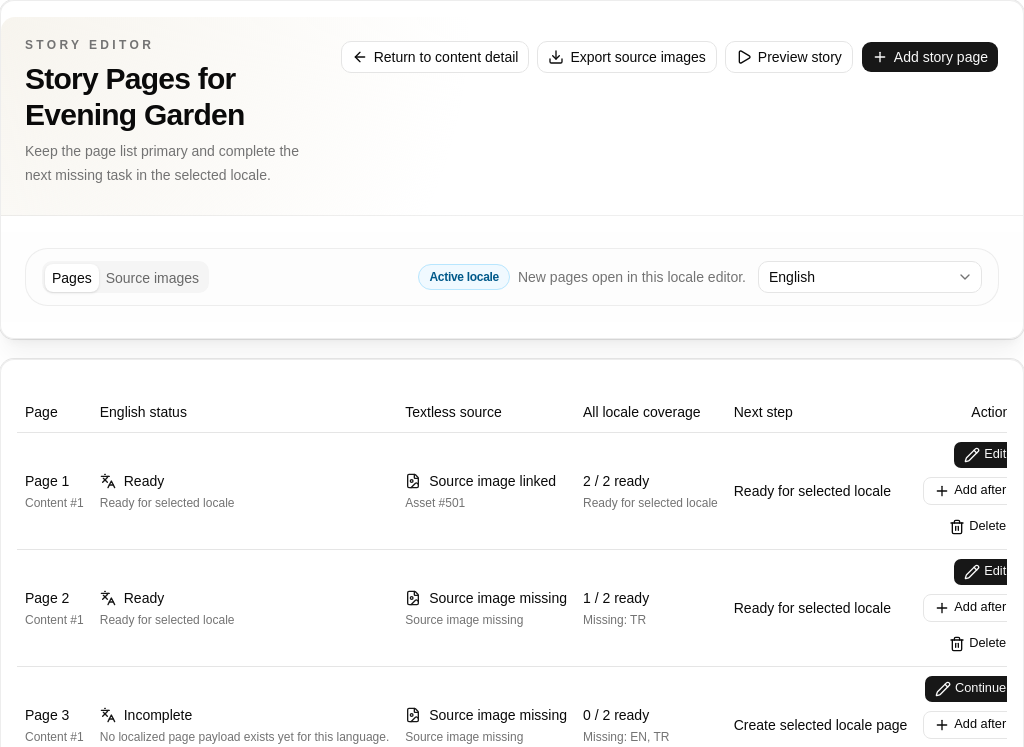
Test: StoryPagesRoute › moves to the previous and next story pages without closing the editor
The width and height of the screenshot is (1024, 747).
Click the button with aria-label "edit page 2" at x=985, y=572, box [953,558,1017,586]
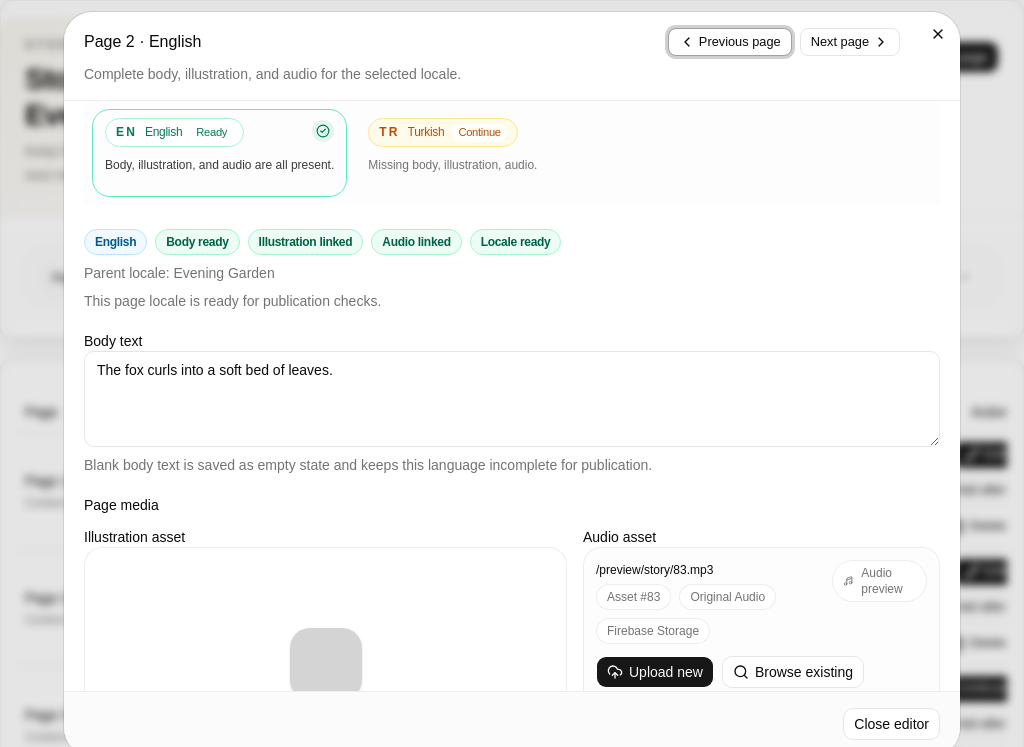
Click the button "Previous page" at x=730, y=42, box [668,28,792,56]
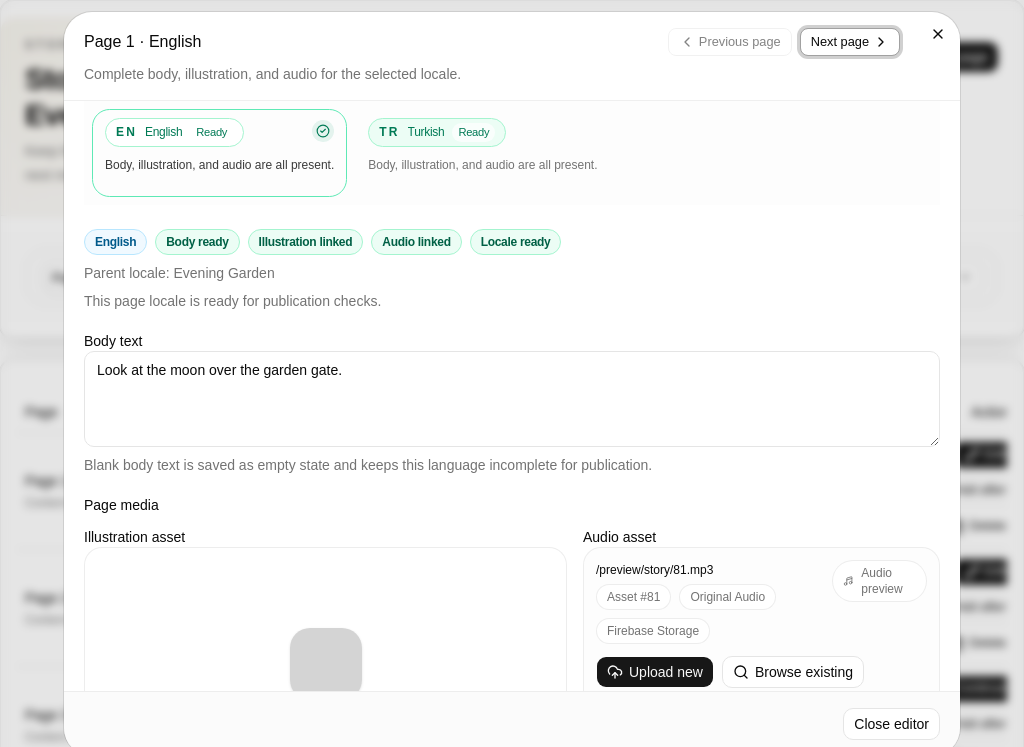
expect the heading "Page 1 · English" is shown: met, box [84,34,201,50]
Click the button "Next page" at x=850, y=42, box [800,28,900,56]
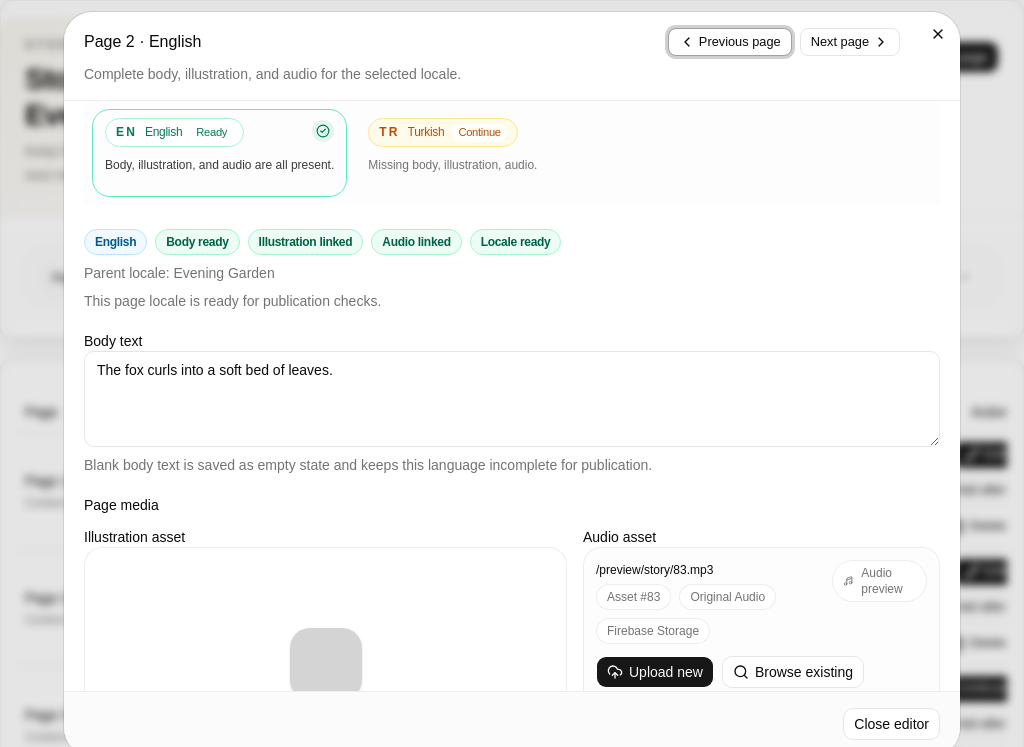
Click the button "Next page" at x=850, y=42, box [800,28,900,56]
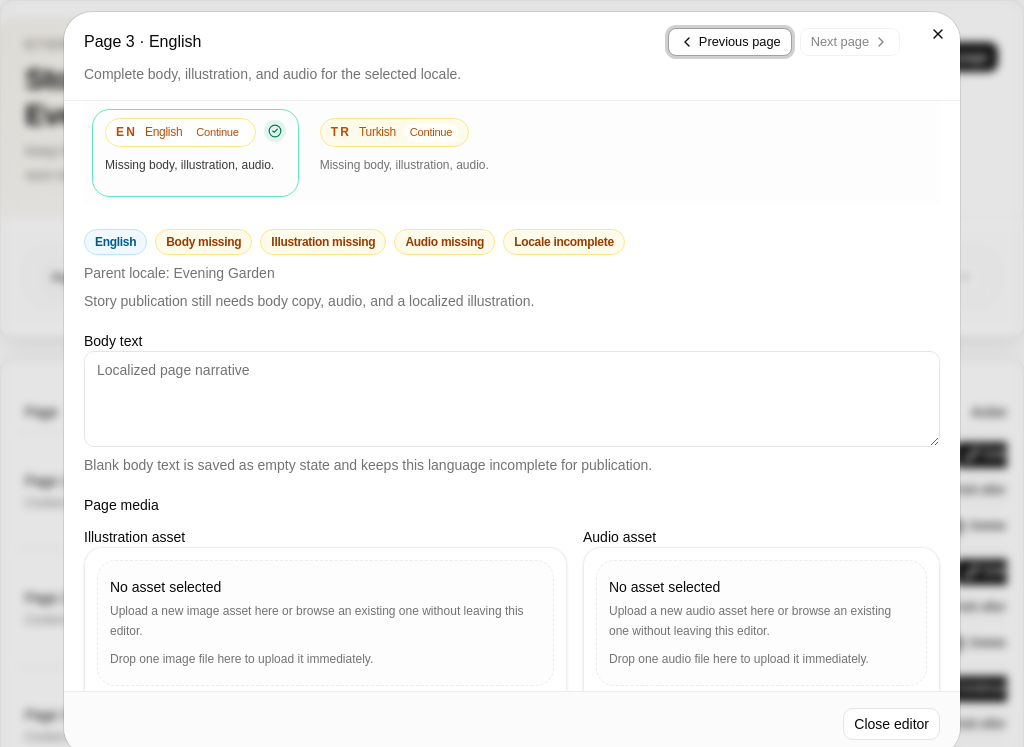
expect the heading "Page 3 · English" is shown: met, box [84,34,201,50]
